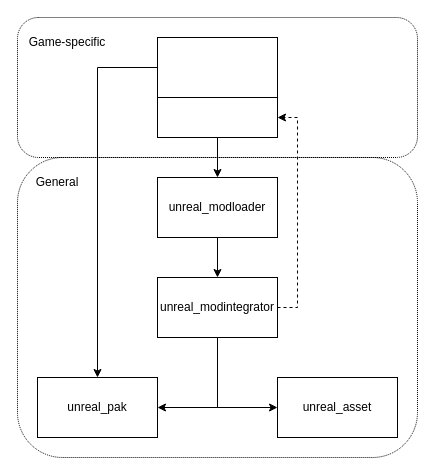
Image size: 435x475. Some labels were removed from this diagram. The shapes that lost their labels are listed below. From the top down, each one's centre as x and y in pixels, then its label:
At [217,67]: "astro_modloader".
At [217,117]: "integrator parts for astro".
